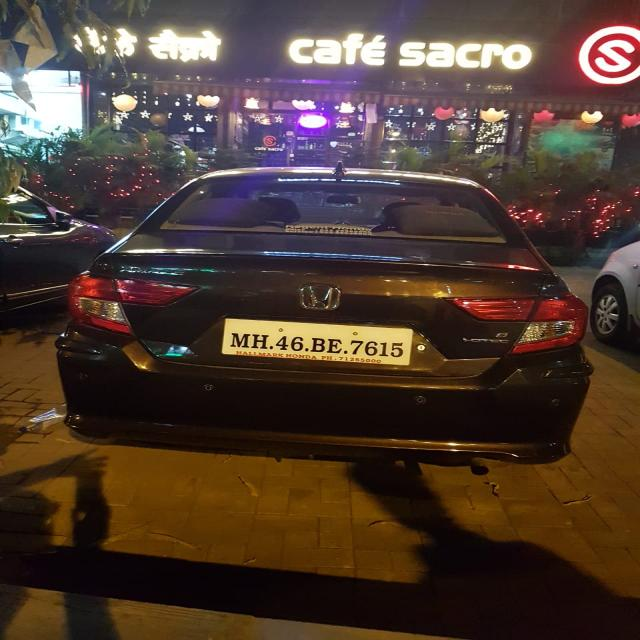Number-Plate: (222, 321, 416, 362)
